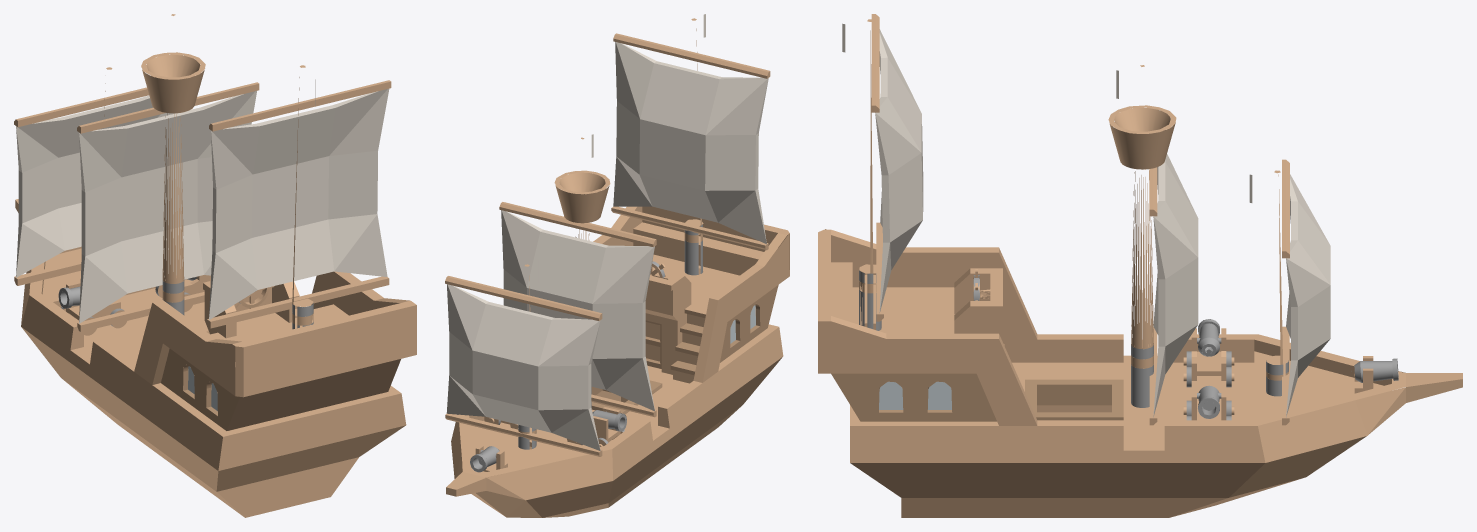
The picture shows the model from 3 angles, left to right: view 1: azimuth 30°, elevation 25°; view 2: azimuth 150°, elevation 25°; view 3: azimuth 270°, elevation 25°; orthographic projection. The views are drawn at different scales.
Parts seen in each view (by area): view 1: ship_light_8angles, sail_back 1, sail_middle 1, sail_front 1, cannon_left 1; view 2: ship_light_8angles, sail_back 1, sail_front 1, sail_middle 1, cannon_left 1, cannon_front 1.001, cannon_left 1.001; view 3: ship_light_8angles, sail_back 1, sail_middle 1, sail_front 1, cannon_left 1, cannon_front 1.001, cannon_left 1.001.
Boxes of the visible parts, box(x1,y1,x2,y2) form: ship_light_8angles: box(15, 14, 416, 517); sail_back 1: box(207, 80, 391, 328); sail_middle 1: box(77, 82, 259, 331); sail_front 1: box(14, 87, 175, 285); cannon_left 1: box(66, 281, 120, 320); ship_light_8angles: box(446, 14, 789, 517); sail_back 1: box(611, 33, 770, 250); sail_front 1: box(445, 276, 602, 456); sail_middle 1: box(499, 202, 656, 417); cannon_left 1: box(593, 407, 620, 442); cannon_front 1.001: box(470, 446, 499, 472); cannon_left 1.001: box(592, 410, 626, 431); ship_light_8angles: box(818, 19, 1462, 517); sail_back 1: box(871, 14, 923, 321); sail_middle 1: box(1149, 154, 1198, 425); sail_front 1: box(1282, 159, 1330, 425); cannon_left 1: box(1191, 328, 1226, 380); cannon_front 1.001: box(1351, 358, 1398, 382); cannon_left 1.001: box(1198, 319, 1219, 356).
Bounding box in the file's own units: 28.5 × 65.46 × 80.49.
